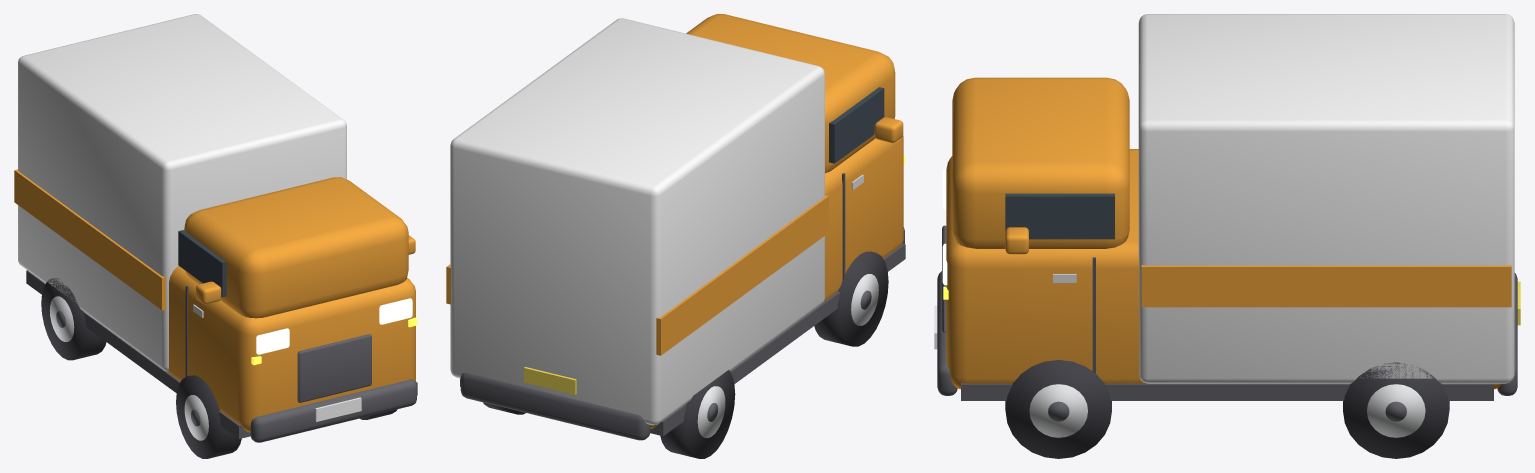
The model's file is delivery.glb.
3 views of the same model, side by side, from view 1: azimuth 30°, elevation 25°; view 2: azimuth 150°, elevation 25°; view 3: azimuth 270°, elevation 25° (orthographic). The views are drawn at different scales.
Parts seen in each view (by area): view 1: delivery; view 2: delivery; view 3: delivery.
Part boxes in pixels (box(x1,y1,x2,y2)): delivery: box(14, 14, 417, 458); delivery: box(446, 14, 905, 458); delivery: box(934, 14, 1520, 458).
Bounding box in the file's own units: 1.04 × 1.25 × 1.98.
